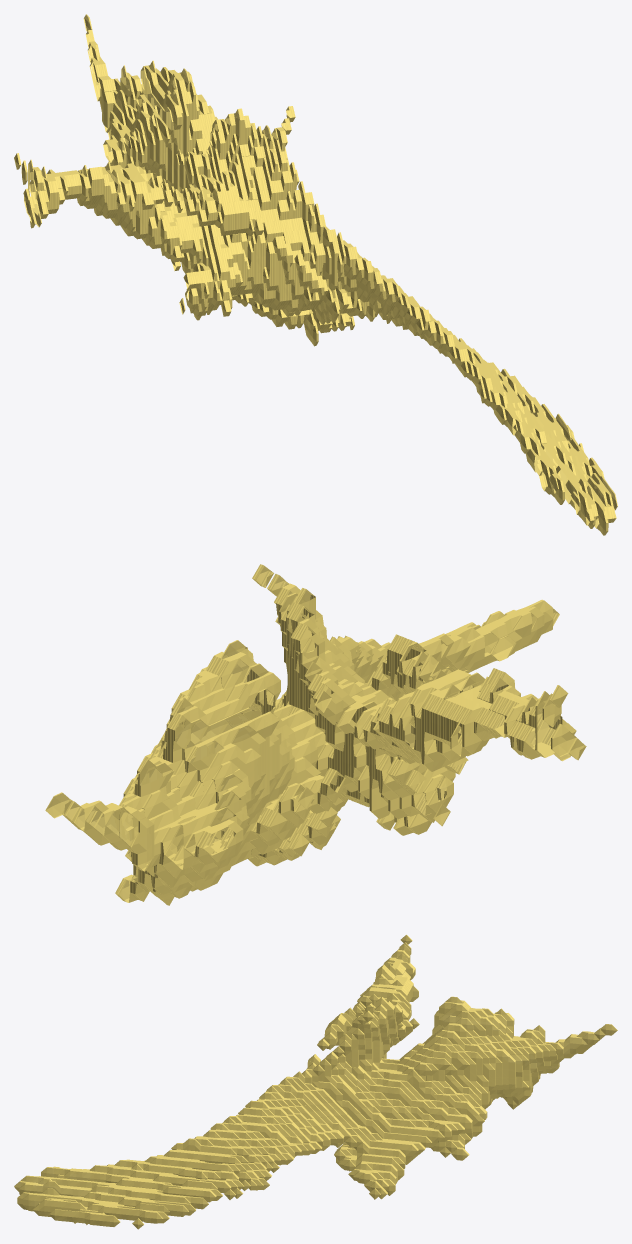
File: SVV_BWM-VL06.gltf
3 views of the same model, one above another, from view 1: azimuth 30°, elevation 25°; view 2: azimuth 150°, elevation 25°; view 3: azimuth 270°, elevation 25° (orthographic). The views are drawn at different scales.
Visible parts, largest first — view 1: BWM-VL06; view 2: BWM-VL06; view 3: BWM-VL06.
Part boxes in pixels (x1=…): BWM-VL06: x1=14, y1=14, x2=617, y2=535; BWM-VL06: x1=45, y1=564, x2=586, y2=905; BWM-VL06: x1=14, y1=934, x2=617, y2=1229.
Size of the model in its own units: 31622 by 21748 by 64991.
